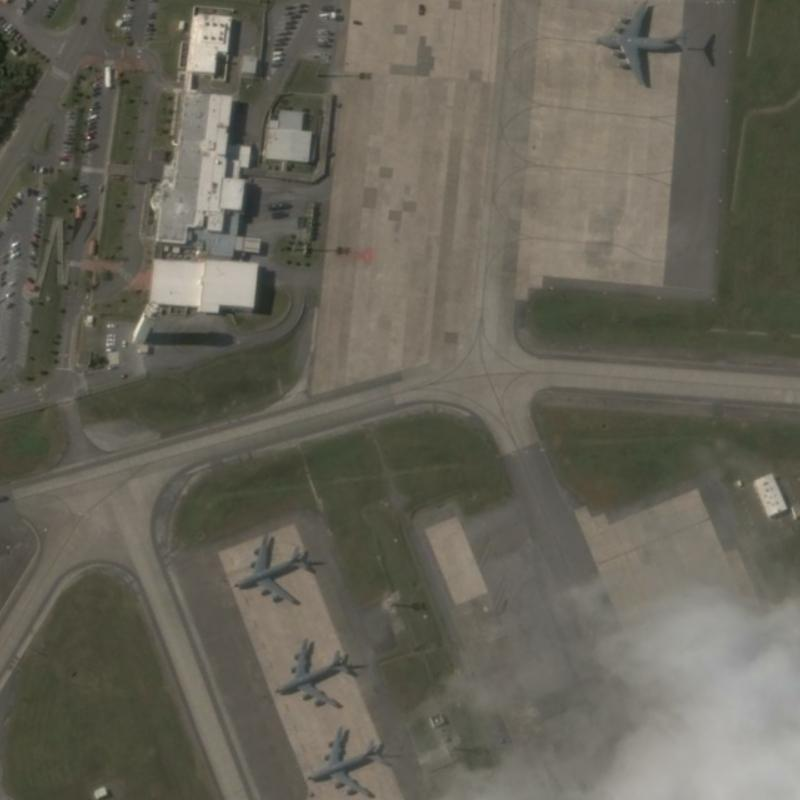A14: (225, 525, 315, 608), (269, 632, 359, 711), (301, 721, 387, 799)
A3: (583, 0, 695, 93)
